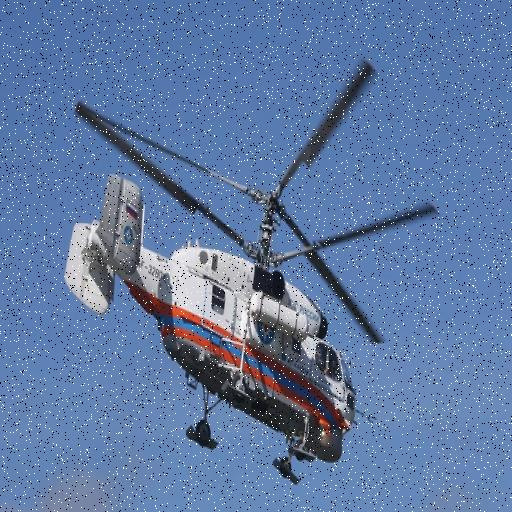helicopter: (59, 49, 445, 499)
